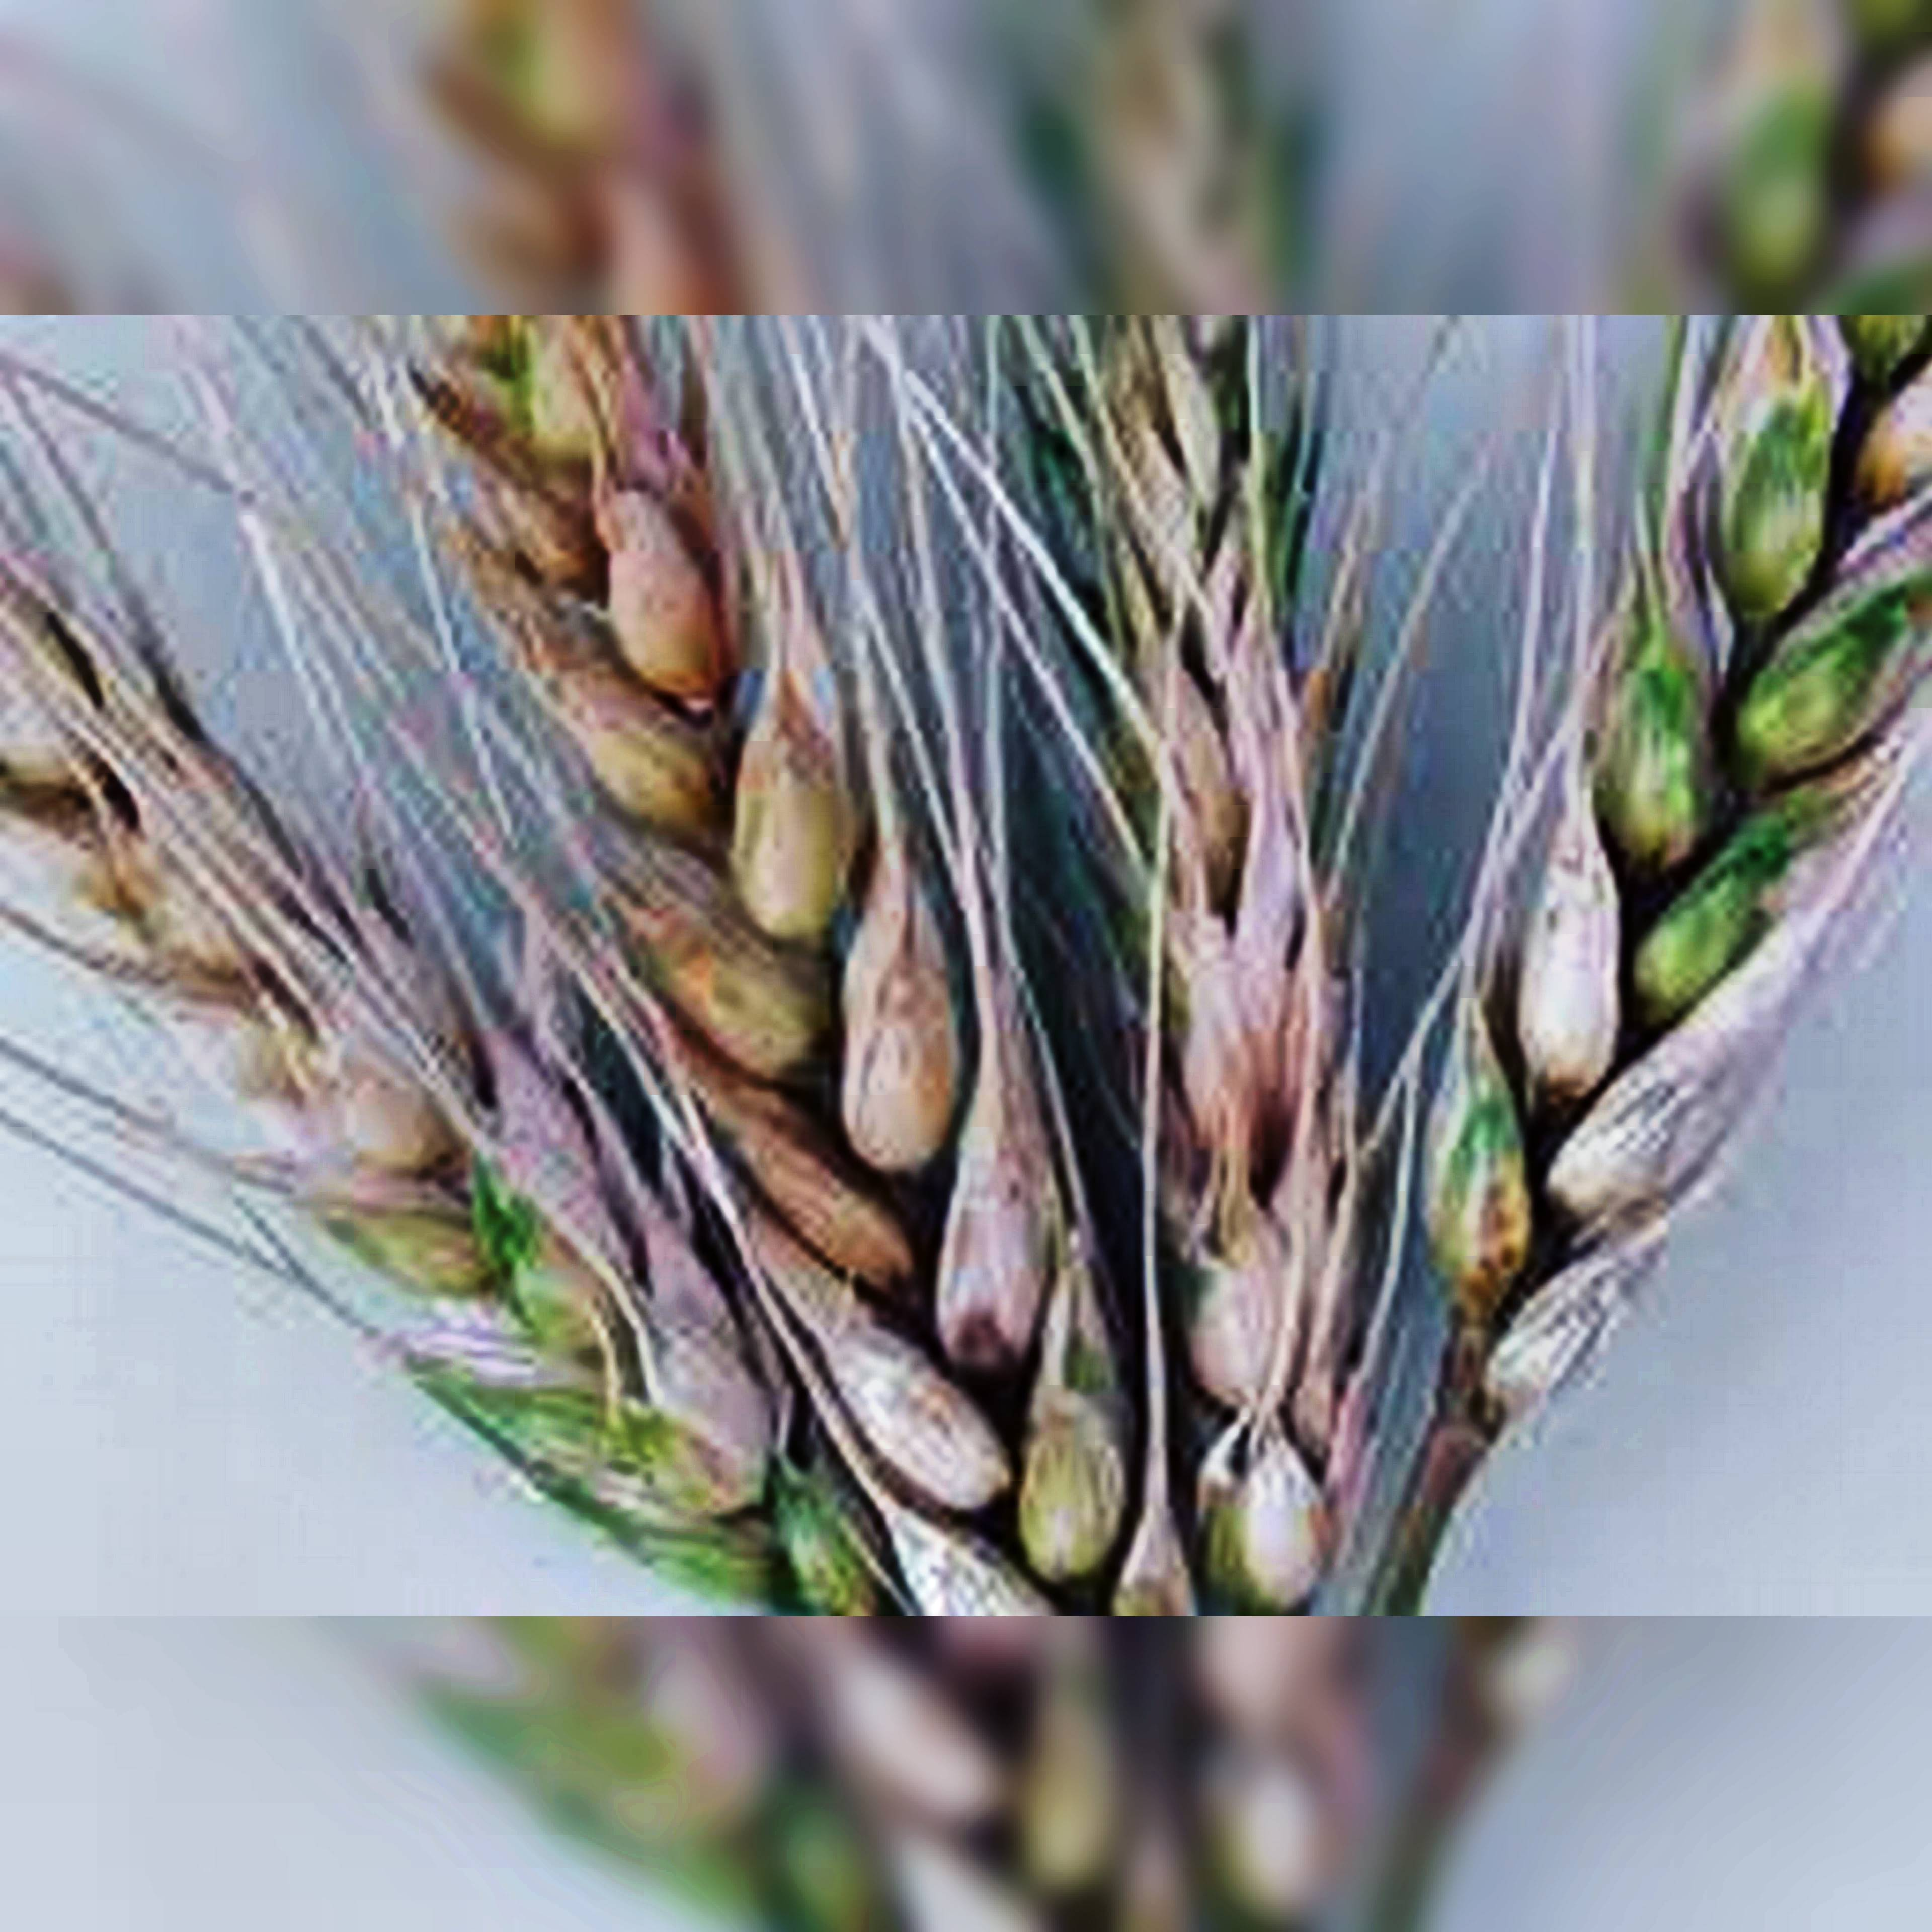Wheat scab: (129, 414, 1757, 1463)
